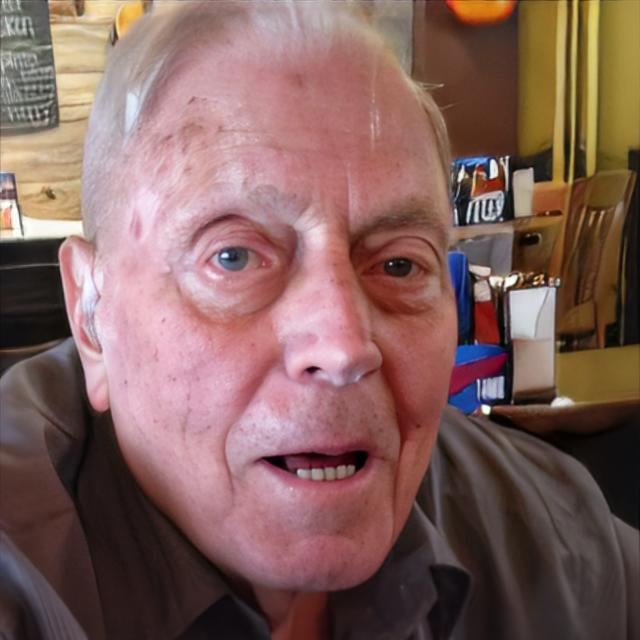surprise: (108, 41, 459, 592)
